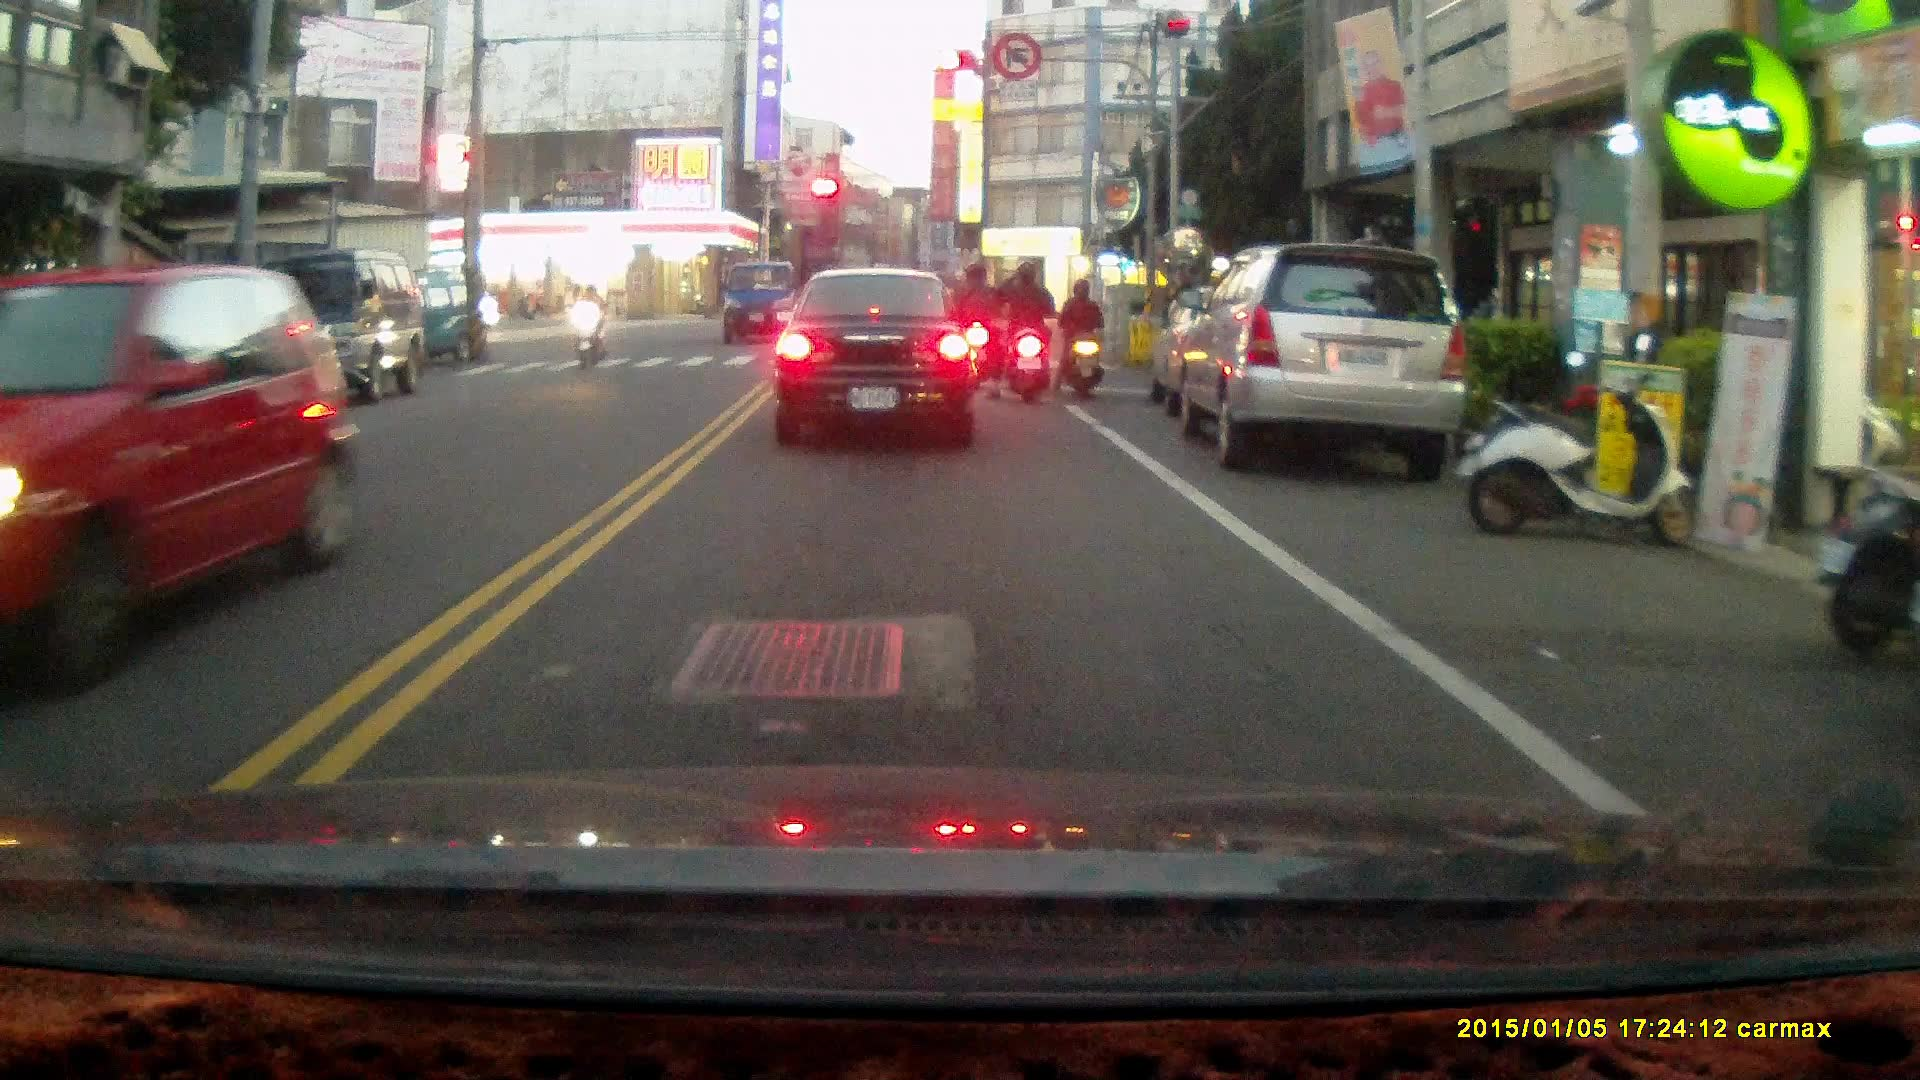rider: (987, 258, 1057, 407), (1052, 274, 1107, 399), (948, 263, 997, 387), (574, 281, 605, 371)
vehicle: (1, 264, 364, 661), (1164, 243, 1462, 472), (777, 267, 982, 445), (222, 247, 422, 404)
